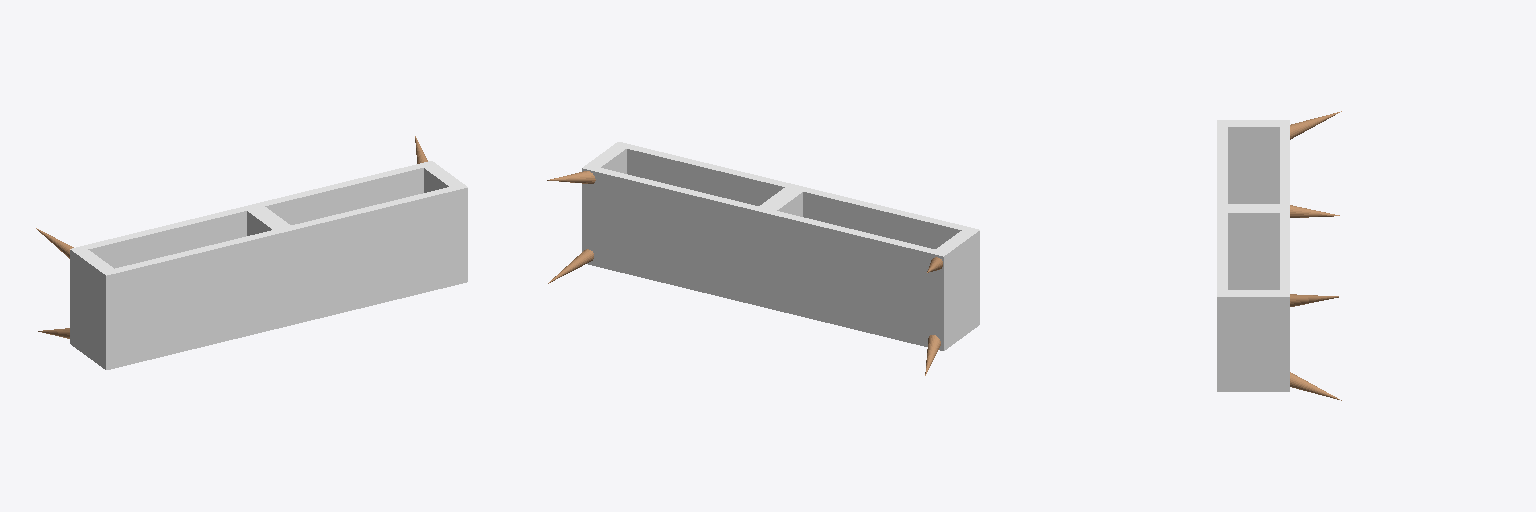
Rendered from tinker.obj.
3 renders of one model, left to right at view 1: azimuth 30°, elevation 25°; view 2: azimuth 150°, elevation 25°; view 3: azimuth 270°, elevation 25°, orthographic.
Visible parts, largest first — view 1: obj_0; view 2: obj_0; view 3: obj_0.
Part boxes in pixels (bbox=[...]): obj_0: bbox=[36, 136, 467, 369]; obj_0: bbox=[547, 142, 979, 375]; obj_0: bbox=[1217, 111, 1341, 400].
Bounding box in the file's own units: 84 × 22 × 24.